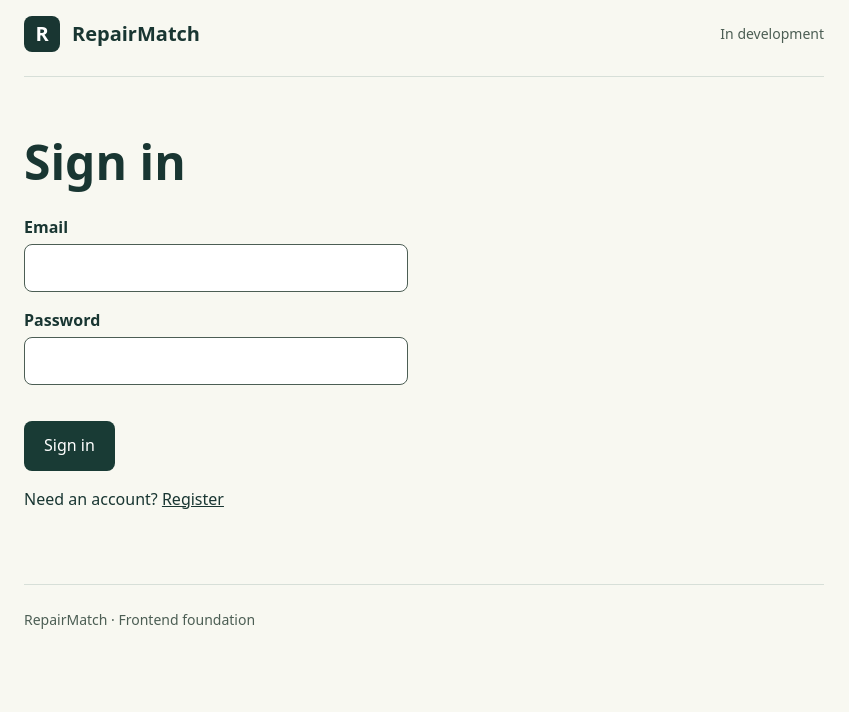
Scenario: login form › replaces internal server text with friendly copy
The width and height of the screenshot is (849, 712).
Type "client@example.test" into the field labelled "Email" at [216, 268], box [24,244,408,292]
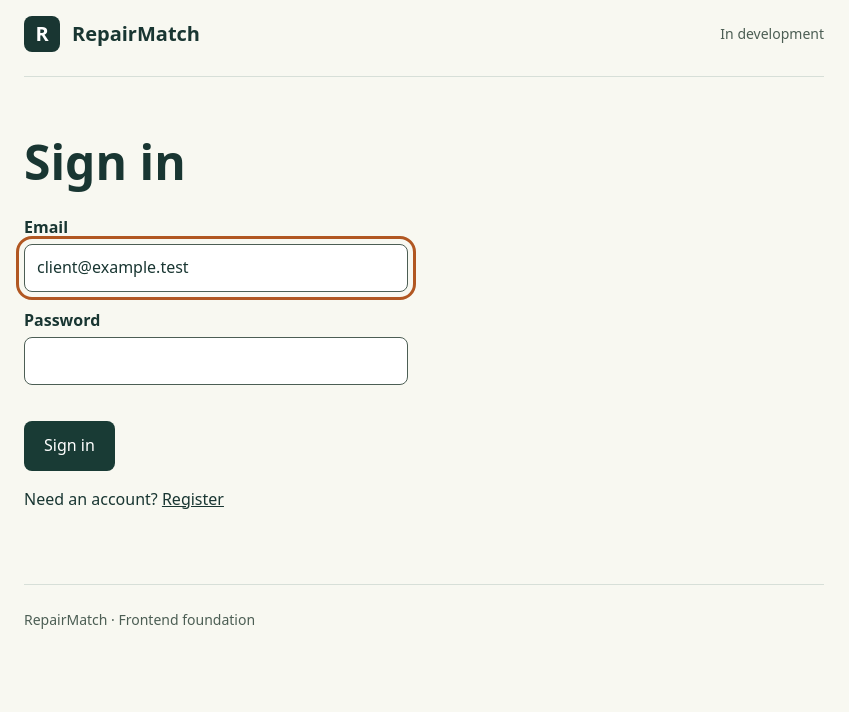
Type "Test-pass-1" into the password field labelled "Password" at [216, 361], box [24,337,408,385]
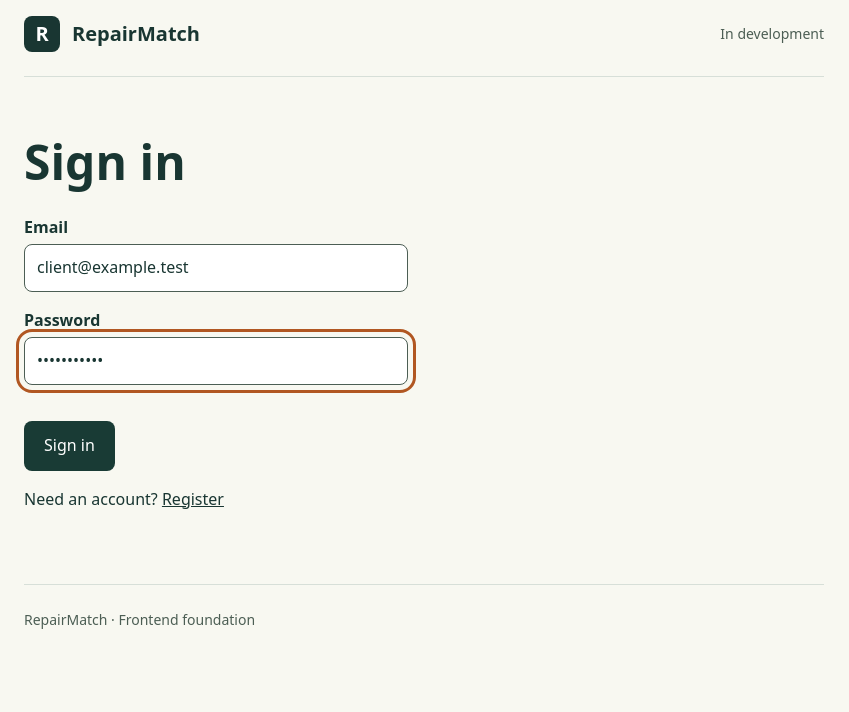
Click the button "Sign in" at [69, 446], box [24,421,115,471]
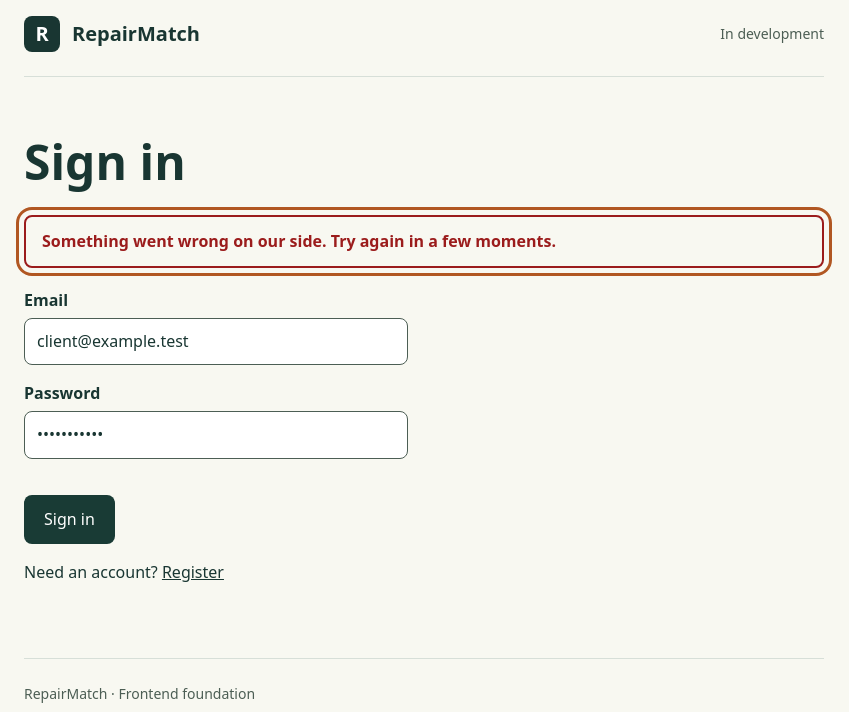
Result: the message reads "Something went wrong on our side. Try again in a few moments." at [42,230,556,252]
